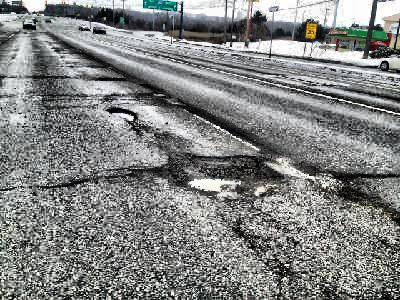pothole: (150, 150, 287, 193), (104, 105, 137, 123), (139, 80, 167, 99), (96, 76, 127, 81)
